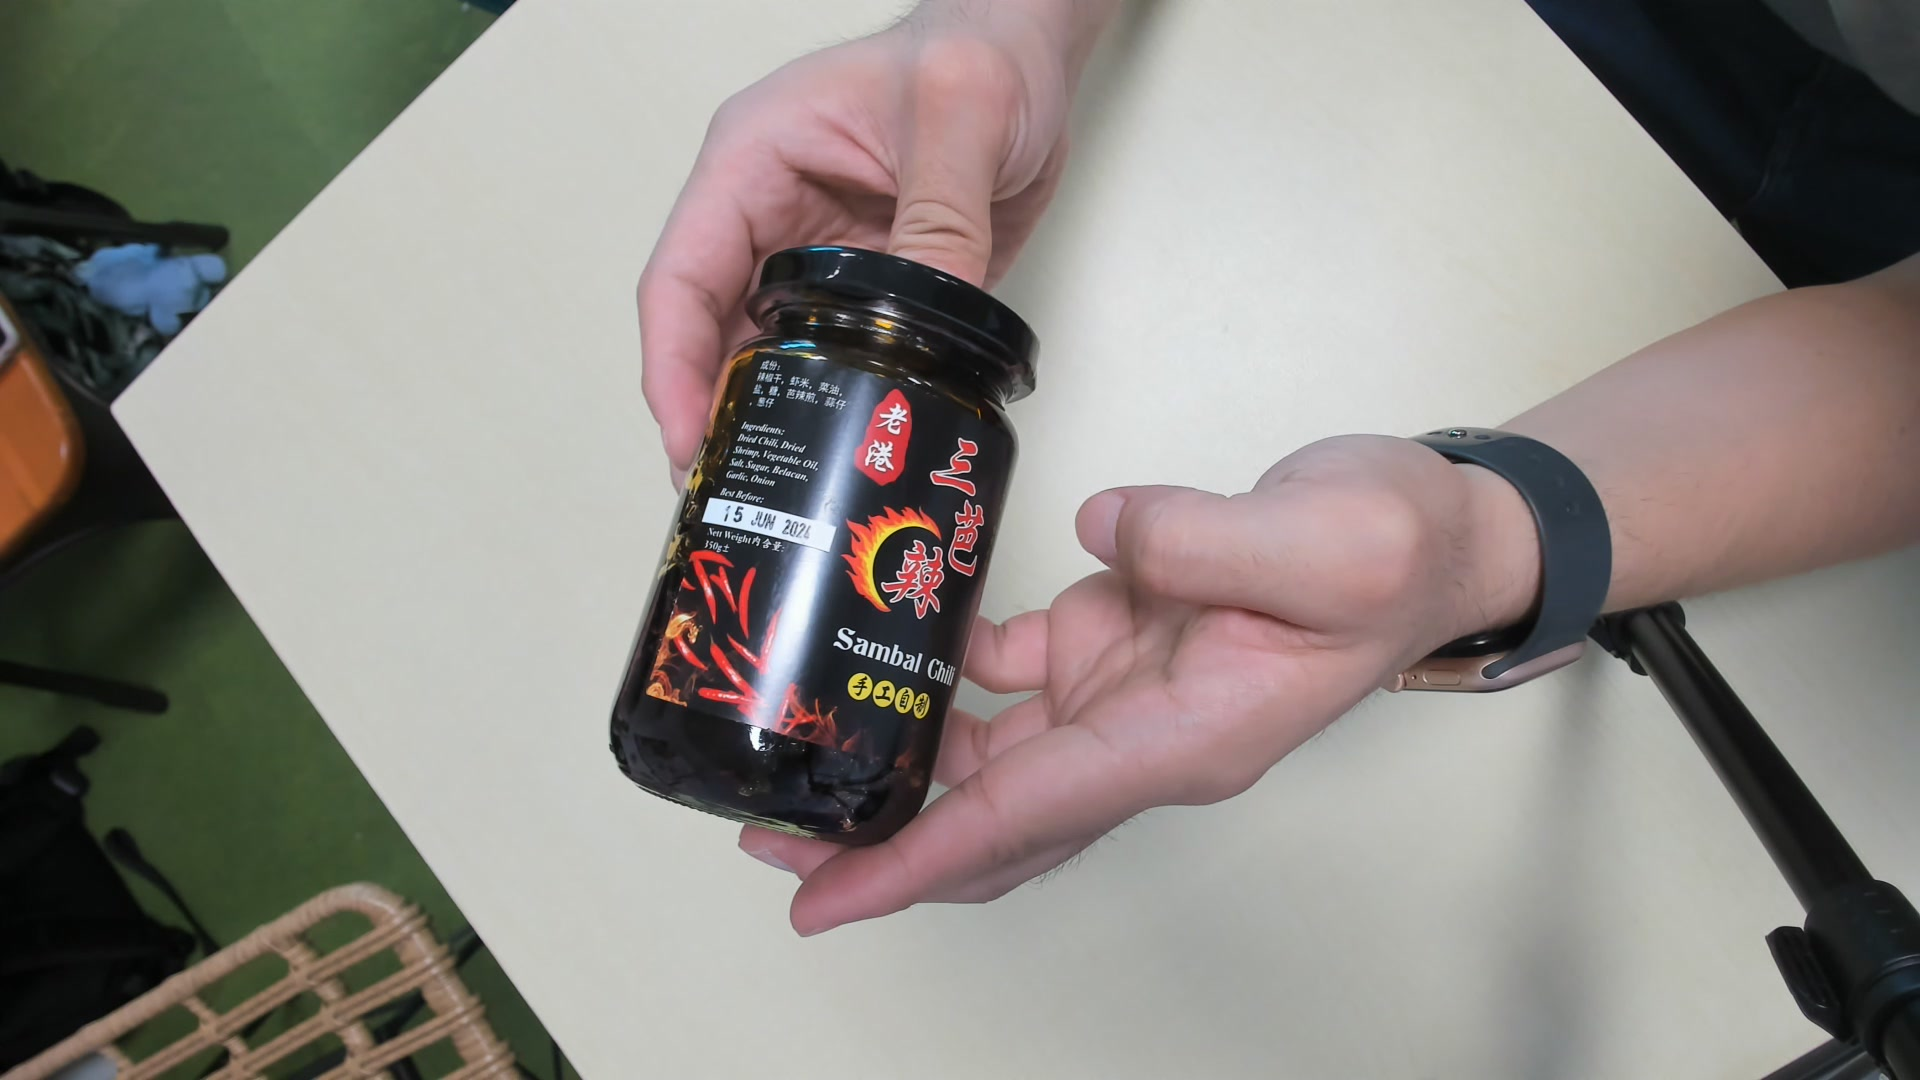OtherSauceDressing_300-399g_NonHalal_NonHealthy: (608, 233, 1052, 837)
